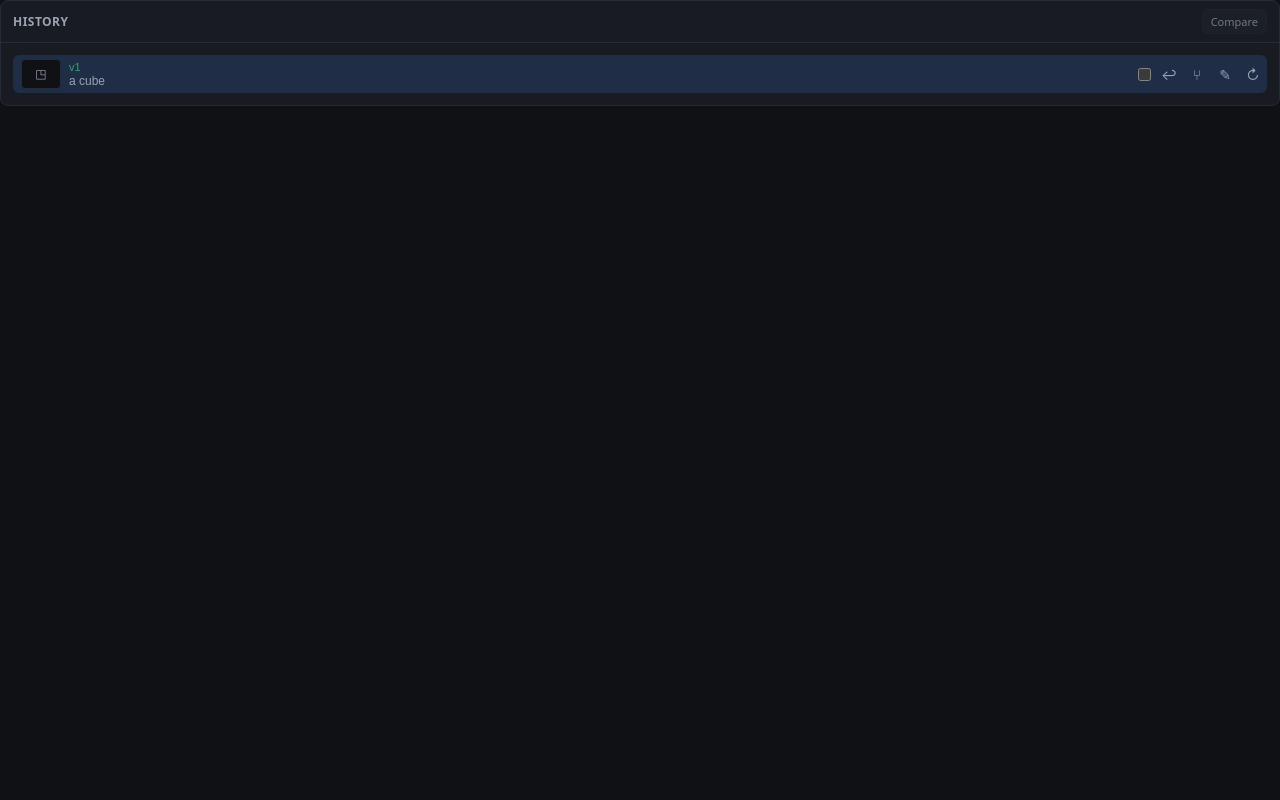
Test: VersionsPanel › renames (annotates) a version
Click the button named "Rename v1" at [1225, 74], box [1211,60,1239,88]
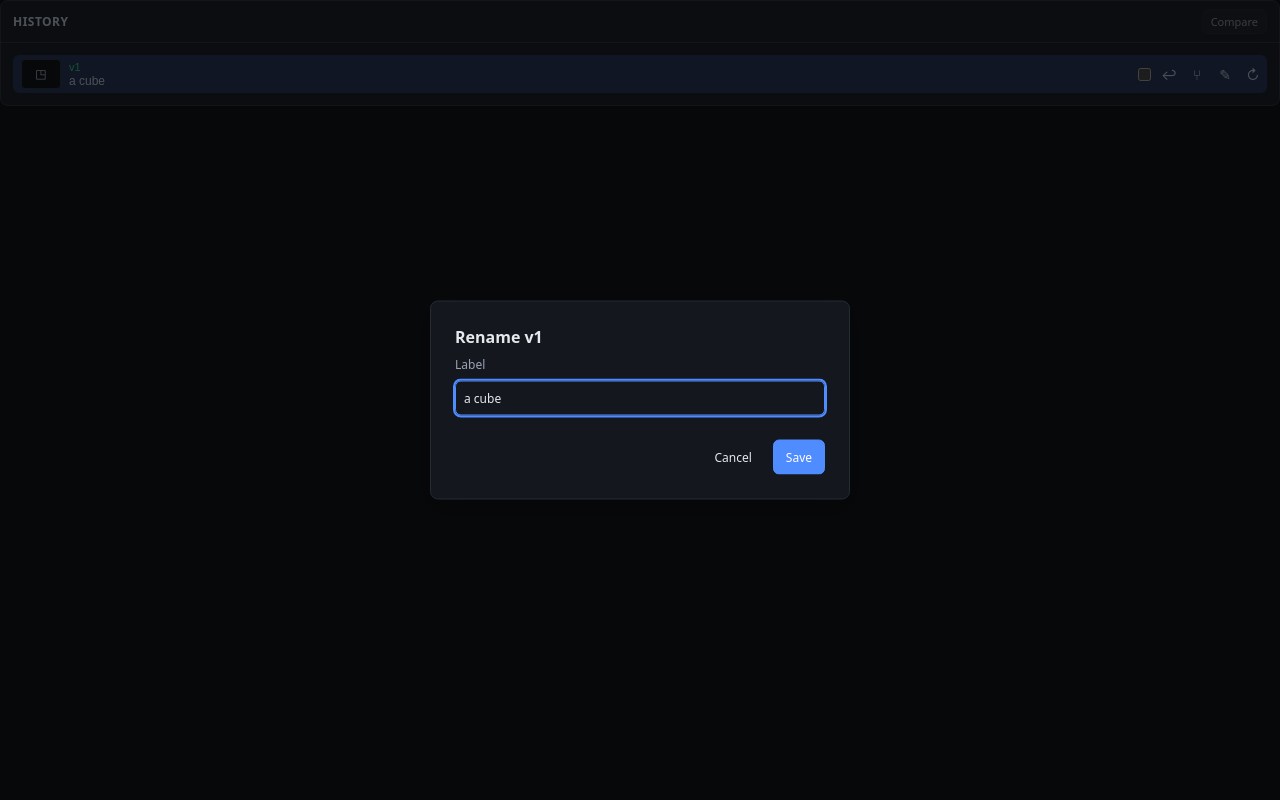
Replace the text in the field labelled "Label" with "Mounting plate" at [640, 398], box [455,380,825,416]
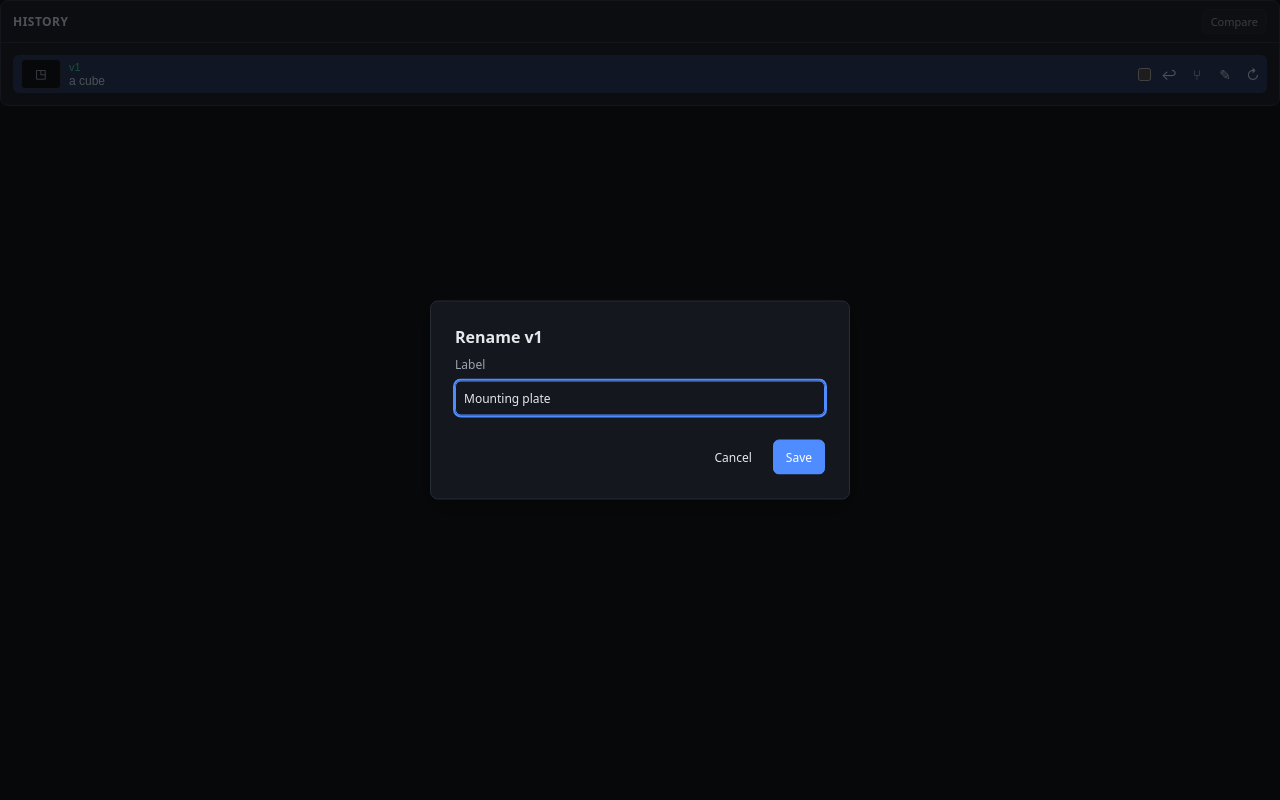
Click the button "Save" at [799, 457], box [773,440,825,474]
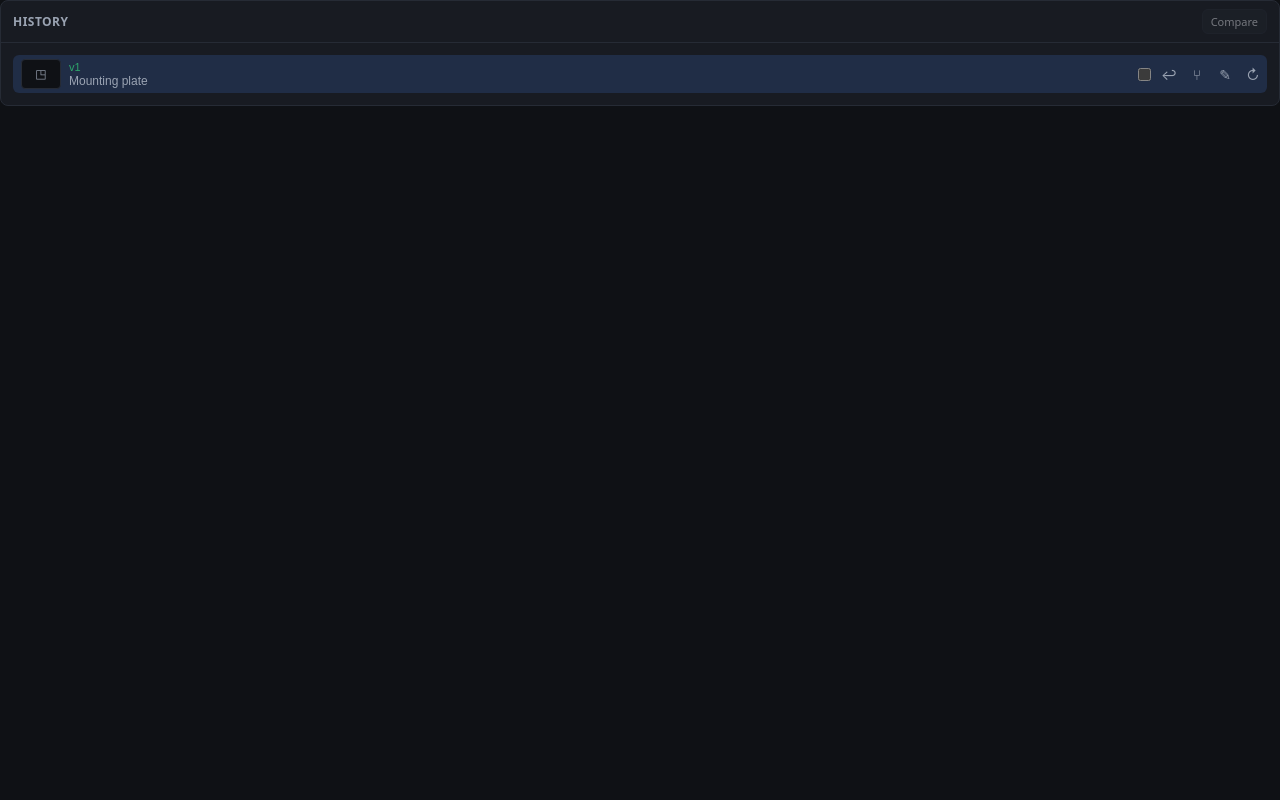
Expected: the text "Mounting plate" is shown, [69,74,148,88]
